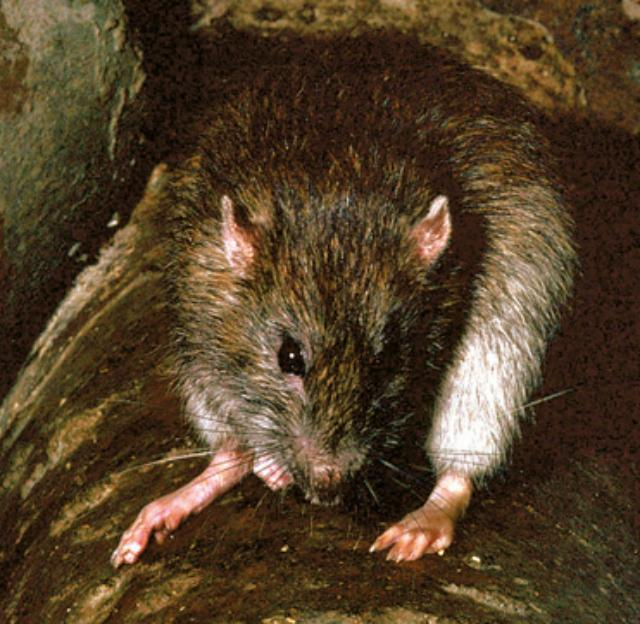rat: (90, 21, 588, 579)
